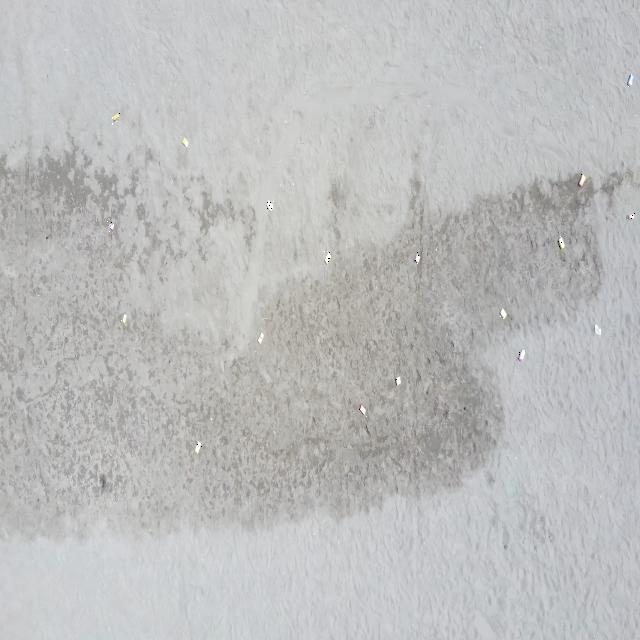retort-pouch: (626, 72, 635, 88), (517, 348, 526, 364), (578, 172, 586, 189), (266, 198, 274, 214), (558, 236, 566, 252), (324, 251, 332, 266), (257, 331, 265, 346), (112, 111, 120, 125), (359, 403, 367, 417), (414, 251, 422, 265), (592, 322, 600, 336), (180, 136, 188, 149), (106, 221, 115, 232), (499, 306, 506, 320), (195, 442, 202, 456), (626, 211, 634, 222), (121, 311, 127, 325), (396, 373, 402, 387)
